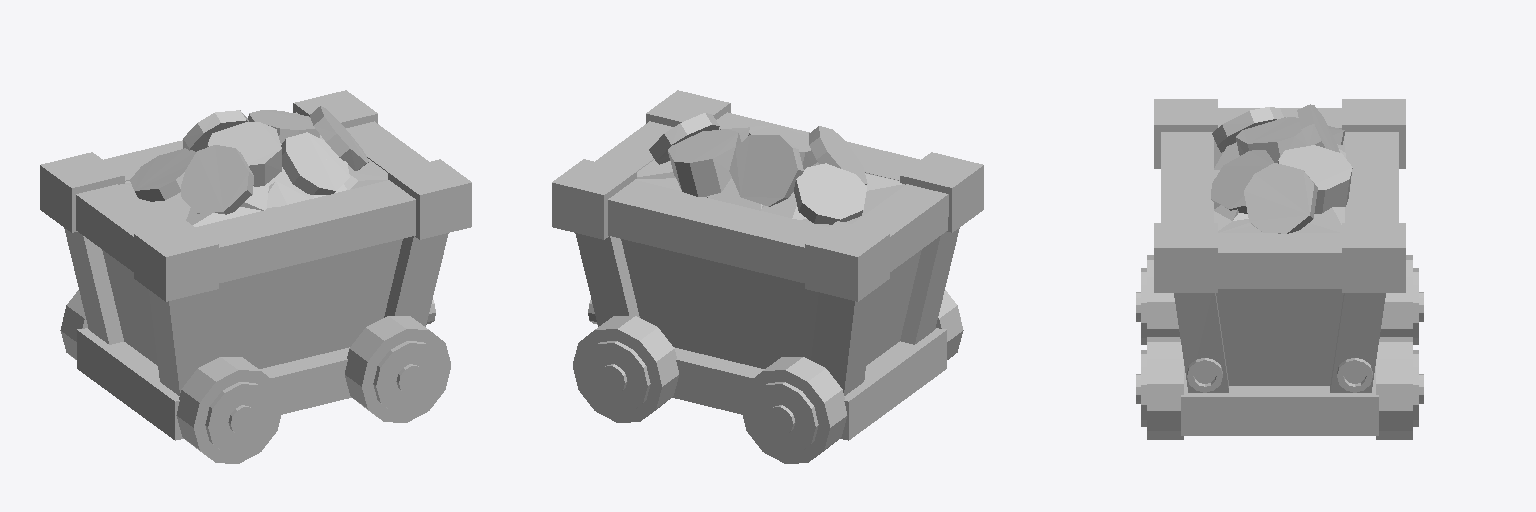
File: Mine Cart.obj
3 renders of one model, left to right at view 1: azimuth 30°, elevation 25°; view 2: azimuth 150°, elevation 25°; view 3: azimuth 270°, elevation 25°, orthographic.
Parts seen in each view (by area): view 1: MineCart1; view 2: MineCart1; view 3: MineCart1.
Boxes of the visible parts, x1,y1,x2,y2 form: MineCart1: [40, 90, 471, 463]; MineCart1: [552, 90, 983, 463]; MineCart1: [1136, 99, 1423, 439].
Size of the model in its own units: 7.89 by 6.83 by 6.42.